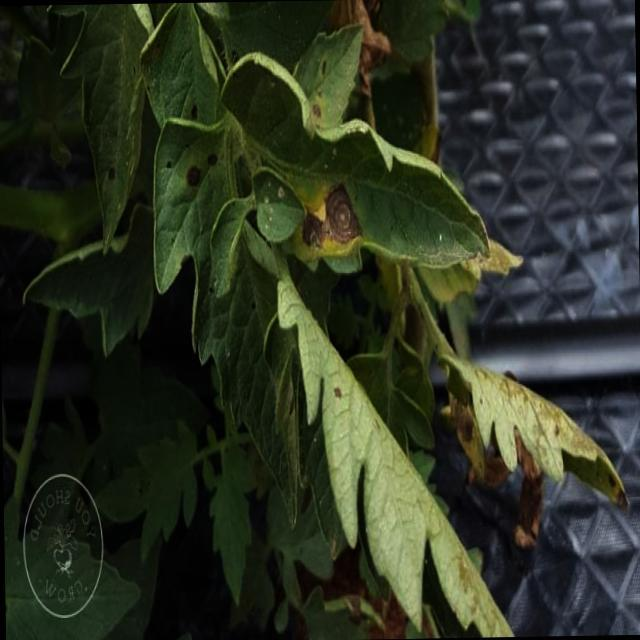Tomato Early blight leaf: (222, 40, 521, 288), (443, 348, 630, 519)
Tomato healthy leaf: (20, 192, 166, 366), (90, 418, 204, 556)
